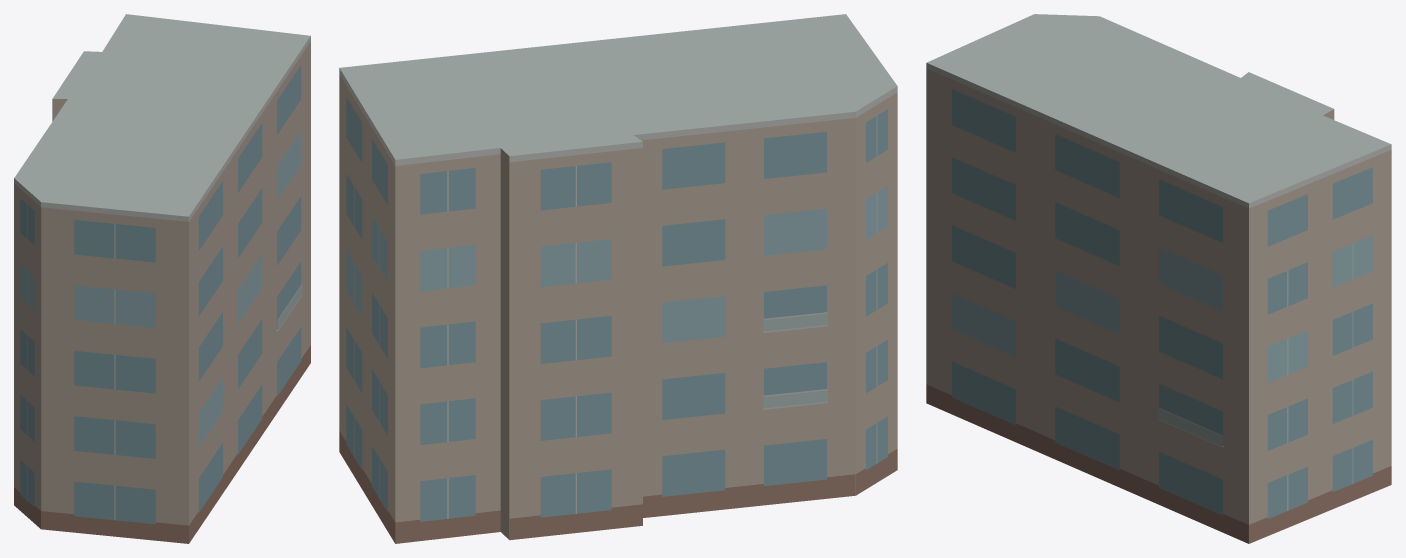
Rendered from survey-upis-33042068.glb.
3 views of the same model, side by side, from view 1: azimuth 30°, elevation 25°; view 2: azimuth 150°, elevation 25°; view 3: azimuth 270°, elevation 25° (orthographic). The views are drawn at different scales.
Visible parts, largest first — view 1: survey-upis-33042068.tmp; view 2: survey-upis-33042068.tmp; view 3: survey-upis-33042068.tmp.
Boxes of the visible parts, box(x1,y1,x2,y2) form: survey-upis-33042068.tmp: box(14, 14, 310, 543); survey-upis-33042068.tmp: box(339, 14, 897, 543); survey-upis-33042068.tmp: box(926, 14, 1391, 543).
Bounding box in the file's own units: 18.19 × 15.25 × 18.88.
